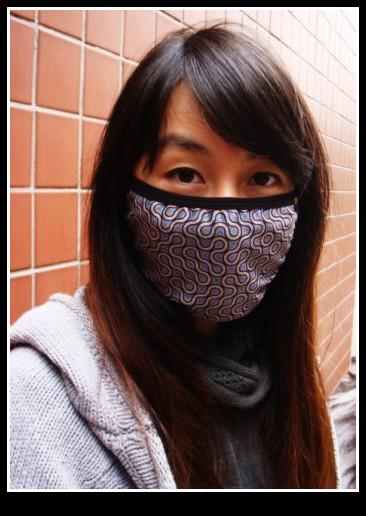OK: (126, 130, 313, 317)
